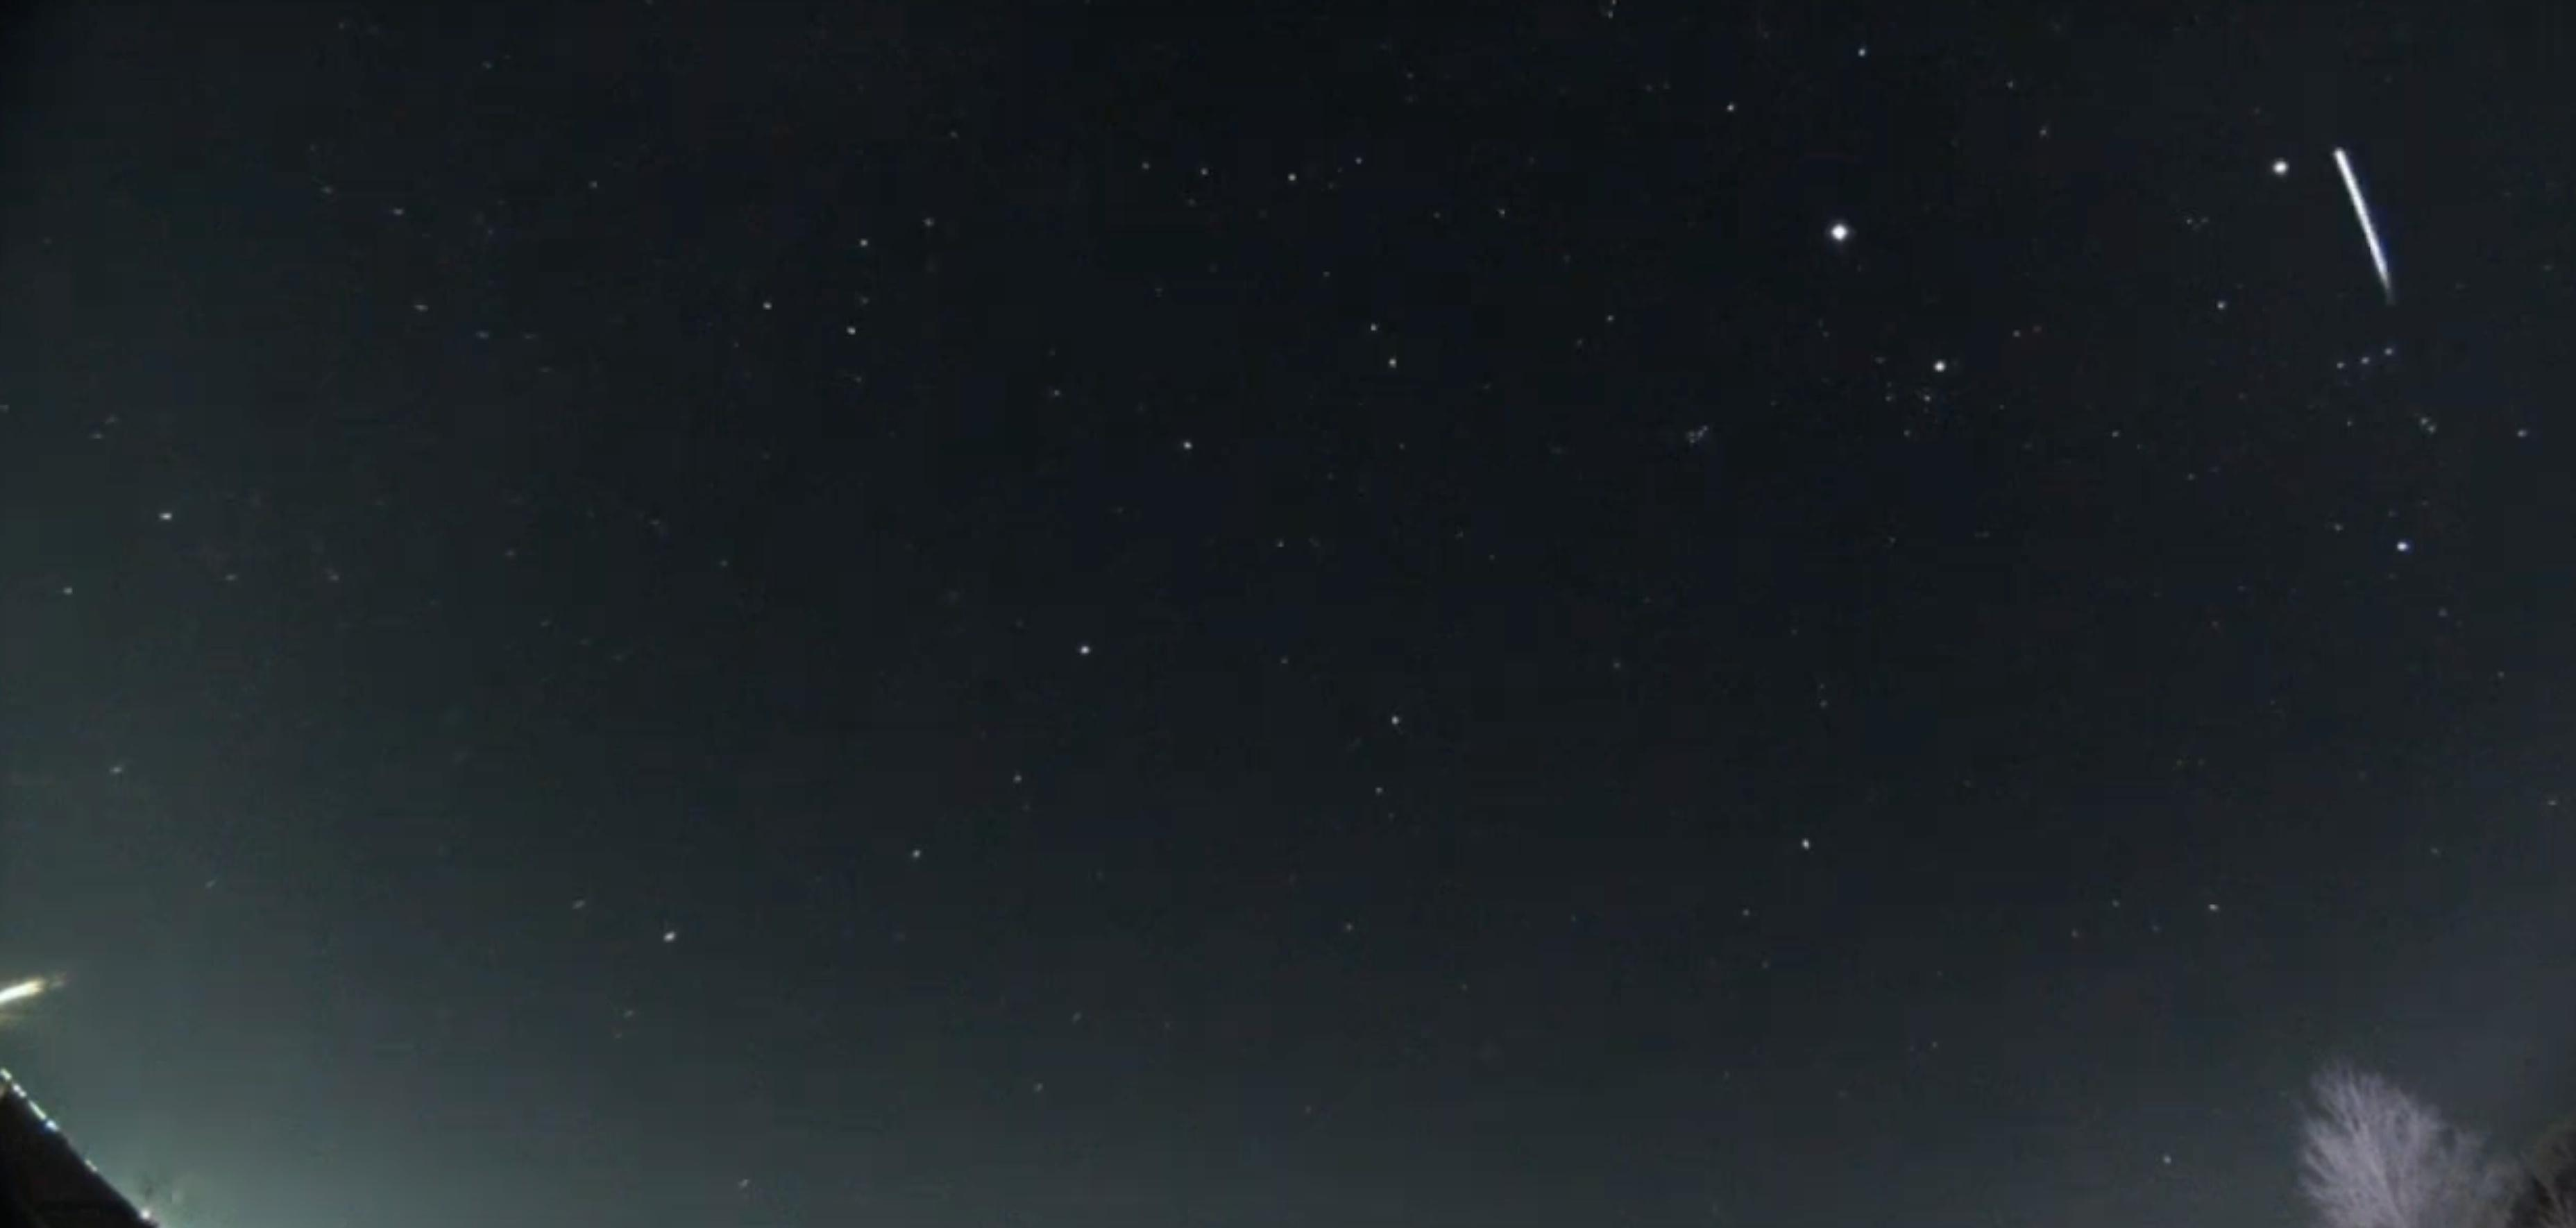meteorite: (2298, 135, 2426, 297)
